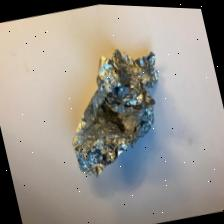metal: (45, 31, 196, 210)
